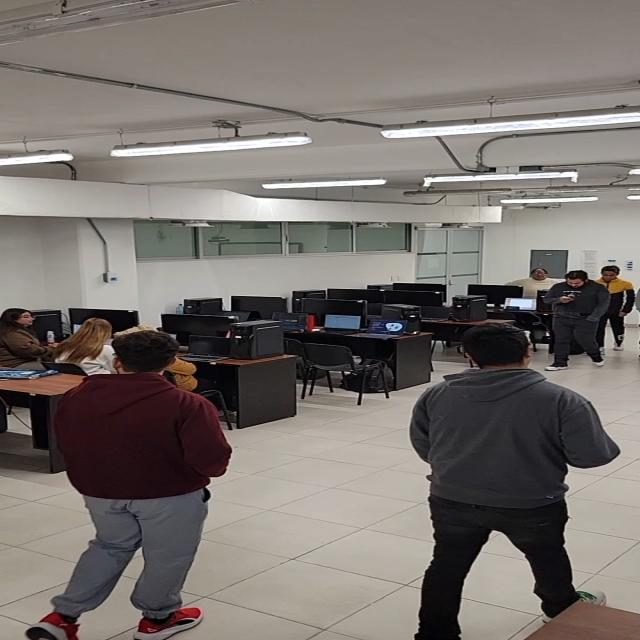Persona: (399, 324, 640, 640), (32, 325, 234, 640), (545, 270, 610, 372), (599, 266, 640, 351)
